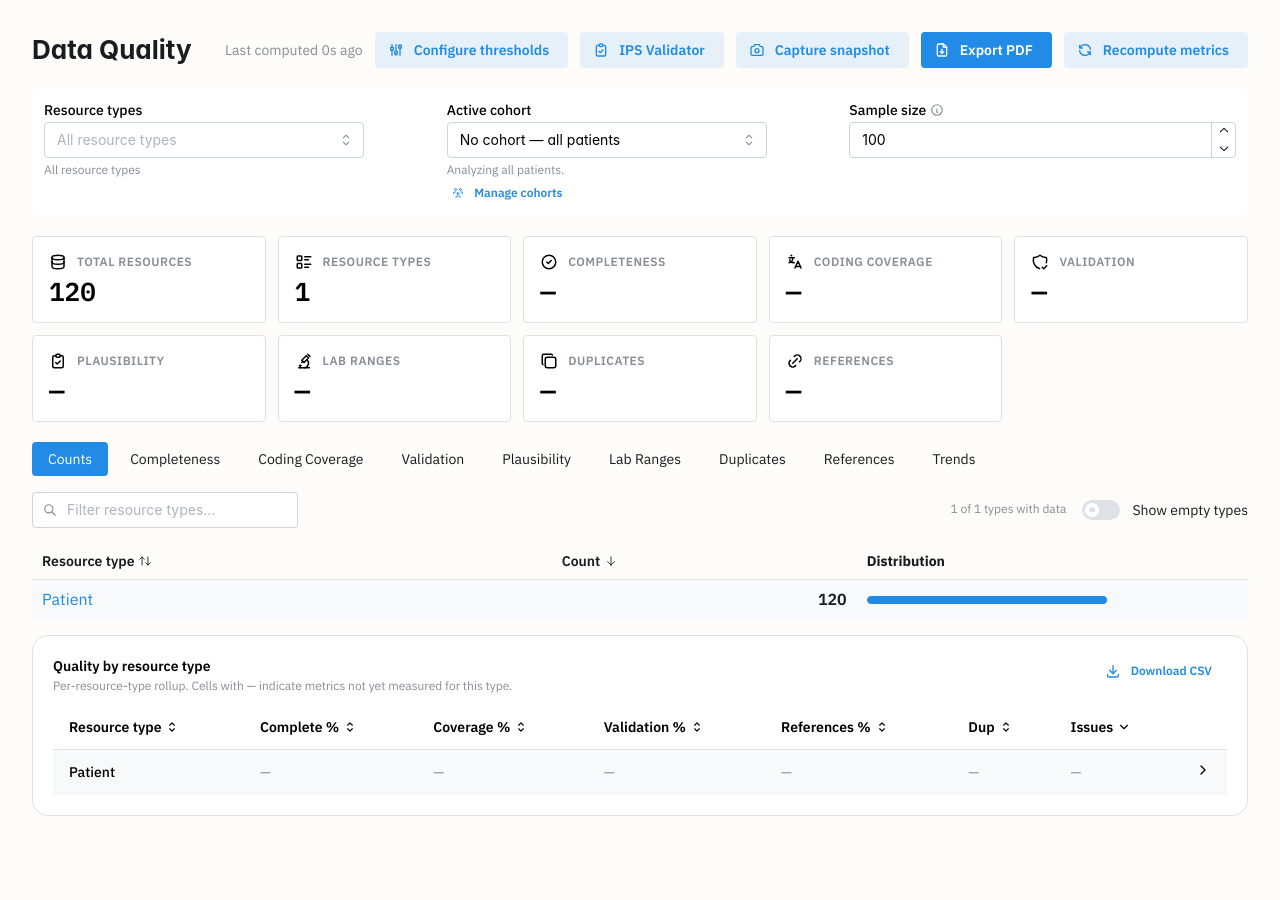
Test: QualityOverviewPage (QUAL-01) › Show empty types toggle reveals zero-count rows
The width and height of the screenshot is (1280, 900).
Check: the link "EmptyType" is not shown
Click the switch labelled "Show empty types" at [1165, 510], box [1082, 500, 1248, 520]
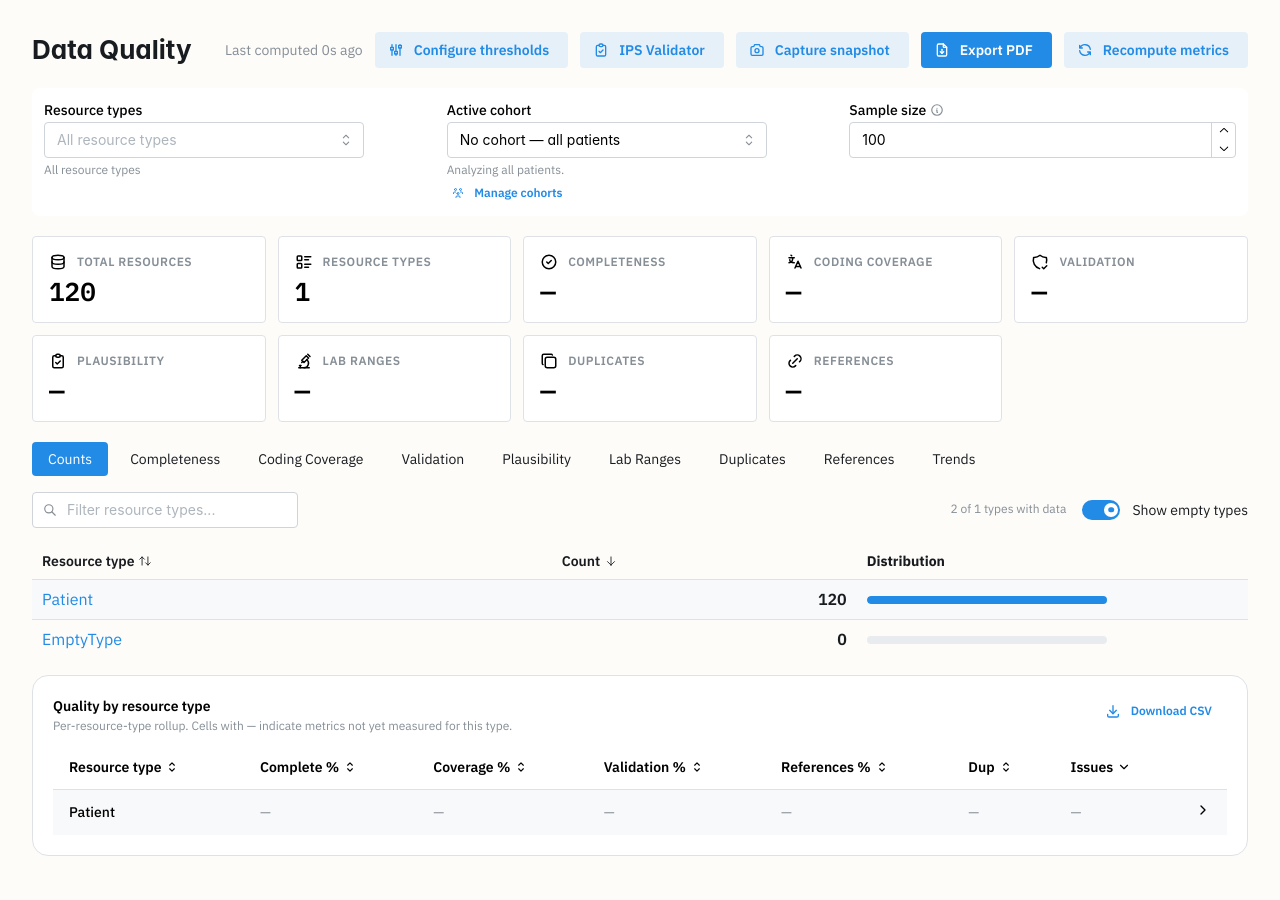
Check: the link "EmptyType" is shown, box [42, 629, 122, 649]
